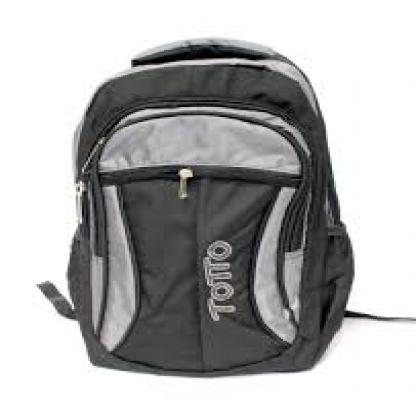morral: (22, 23, 412, 384)
